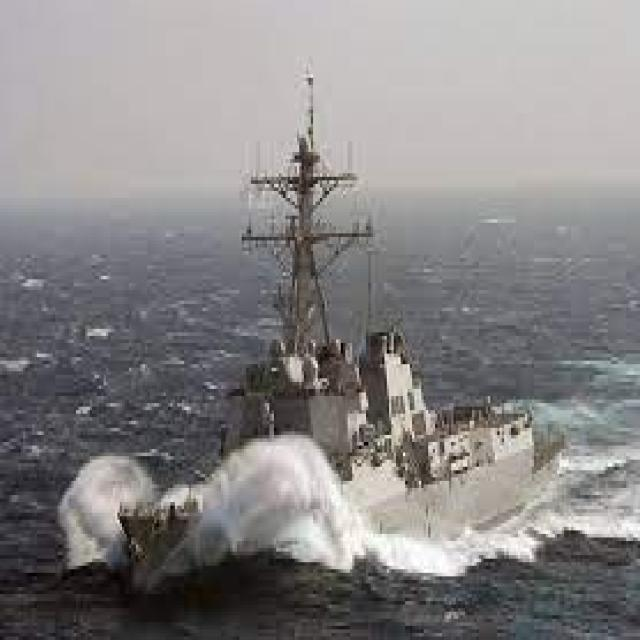navalvessels: (131, 52, 551, 587)
